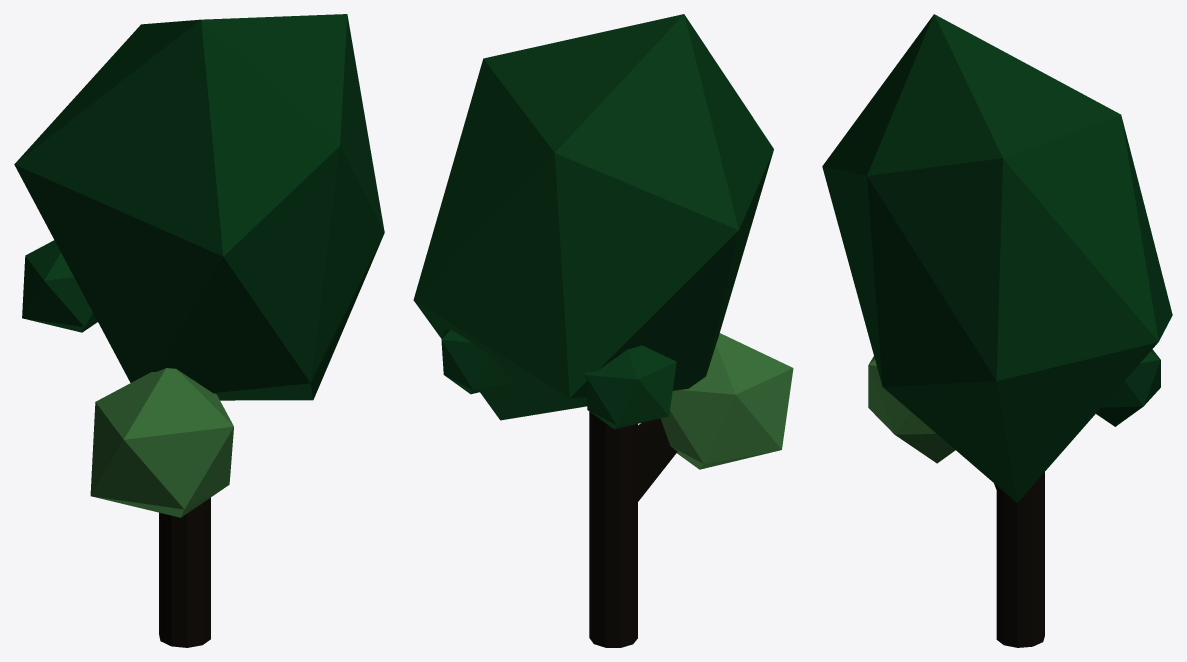
File: alice_tree2.FBX
The picture shows the model from 3 angles, left to right: view 1: azimuth 30°, elevation 25°; view 2: azimuth 150°, elevation 25°; view 3: azimuth 270°, elevation 25°; orthographic projection. The views are drawn at different scales.
Parts seen in each view (by area): view 1: GeoSphere005, GeoSphere004, Cylinder002, GeoSphere006; view 2: GeoSphere005, Cylinder002, GeoSphere004, GeoSphere006, GeoSphere010; view 3: GeoSphere005, Cylinder002, GeoSphere004, GeoSphere010.
Part boxes in pixels (x1,y1,x2,y2): GeoSphere005: [14, 14, 384, 400]; GeoSphere004: [90, 368, 233, 517]; Cylinder002: [159, 497, 210, 647]; GeoSphere006: [22, 240, 97, 332]; GeoSphere005: [413, 14, 773, 420]; Cylinder002: [586, 404, 677, 647]; GeoSphere004: [660, 333, 793, 469]; GeoSphere006: [585, 345, 676, 429]; GeoSphere010: [441, 329, 514, 394]; GeoSphere005: [822, 14, 1172, 502]; Cylinder002: [994, 472, 1044, 647]; GeoSphere004: [868, 356, 955, 463]; GeoSphere010: [1096, 349, 1160, 426].
Size of the model in its own units: 342 by 631 by 329.
